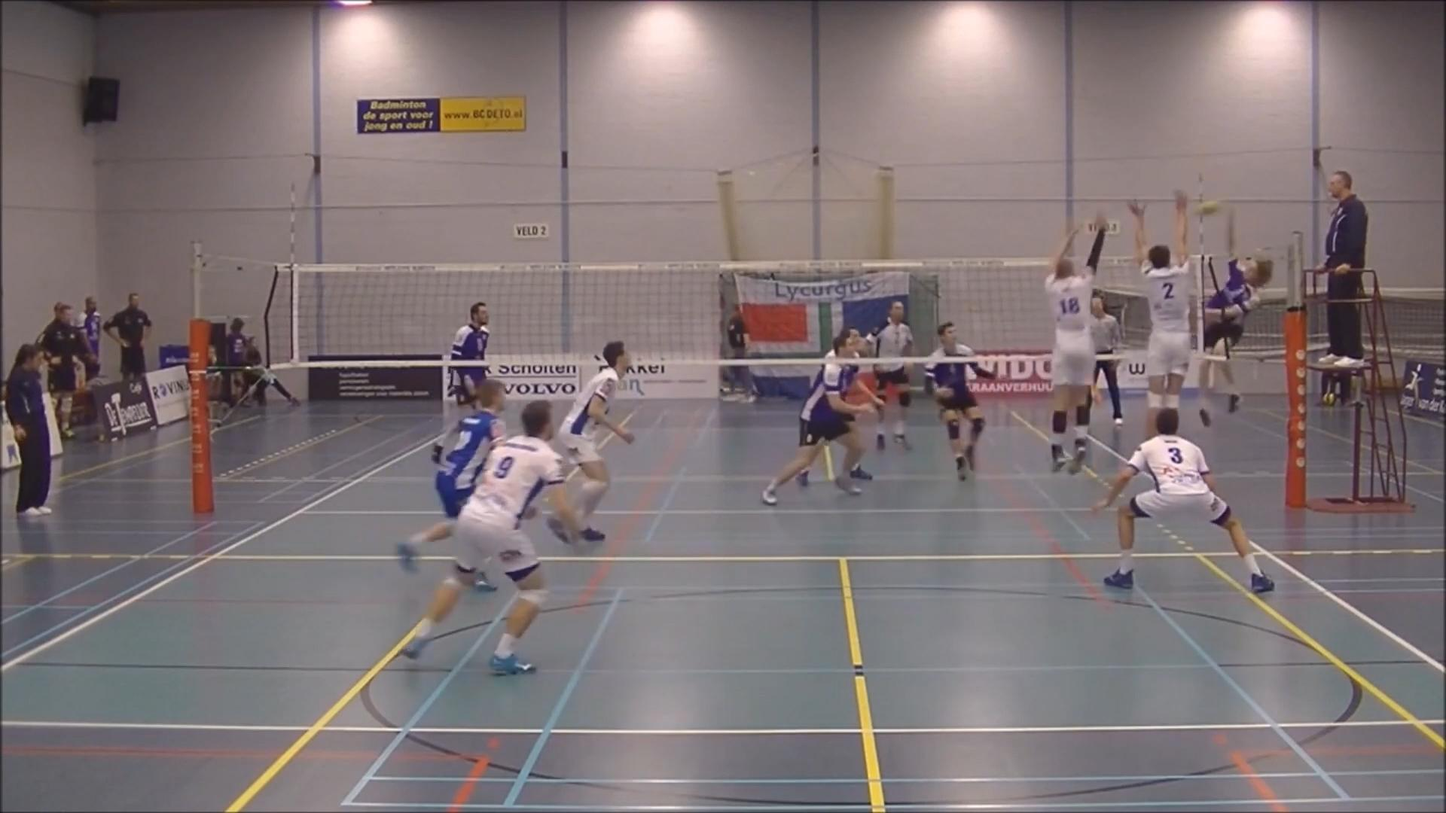Attack: (1187, 190, 1272, 431)
Block: (1025, 216, 1114, 479), (1112, 201, 1204, 430)
Player: (402, 401, 578, 674), (1094, 407, 1273, 592), (762, 328, 881, 505), (398, 380, 505, 571), (557, 341, 633, 542), (925, 322, 995, 480), (432, 302, 489, 462), (867, 301, 914, 450), (844, 362, 884, 400)
ball: (1199, 189, 1220, 221)
